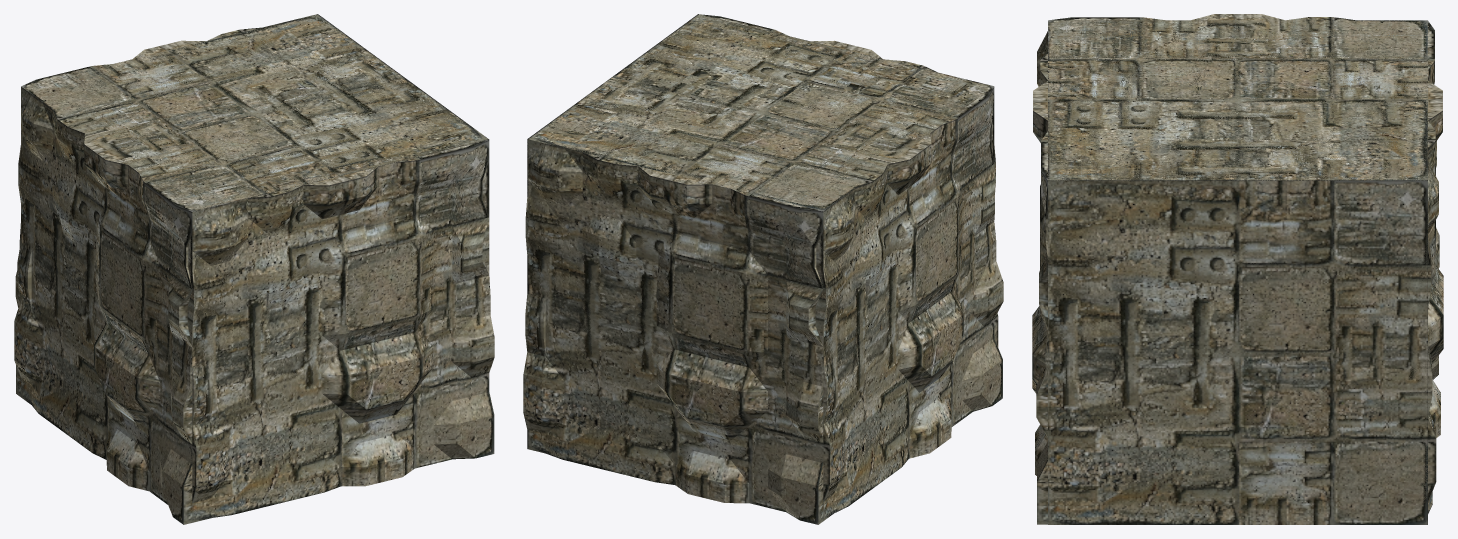
Rendered from HardBrock.obj.
3 renders of one model, left to right at view 1: azimuth 30°, elevation 25°; view 2: azimuth 150°, elevation 25°; view 3: azimuth 270°, elevation 25°, orthographic. The views are drawn at different scales.
Parts seen in each view (by area): view 1: 立方体.006; view 2: 立方体.006; view 3: 立方体.006.
Boxes of the visible parts, x1=… form: 立方体.006: x1=14, y1=14, x2=494, y2=524; 立方体.006: x1=523, y1=14, x2=1003, y2=524; 立方体.006: x1=1032, y1=14, x2=1443, y2=524.
Size of the model in its own units: 20.84 by 20 by 21.68.
Materials: 4 (4 with a texture image).
